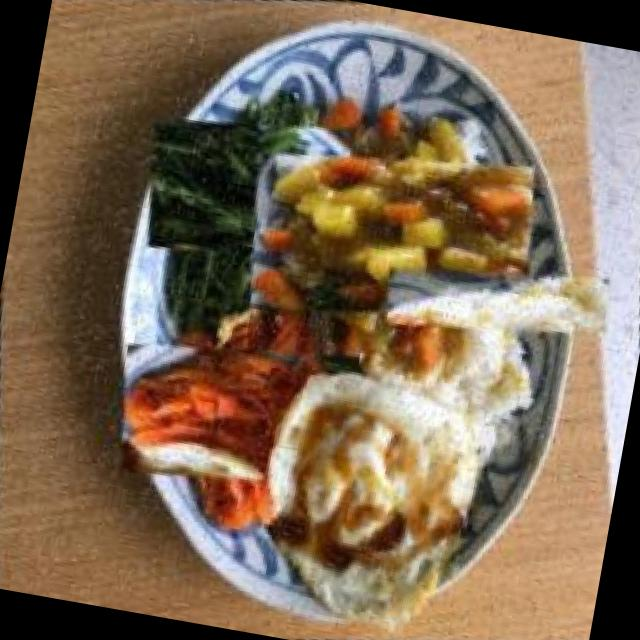carrot_eggs: (116, 290, 364, 540)
curry: (245, 89, 540, 384)
fried_eggs: (212, 332, 523, 640)
rice: (403, 205, 592, 394)
water_spinach: (136, 78, 360, 302)
